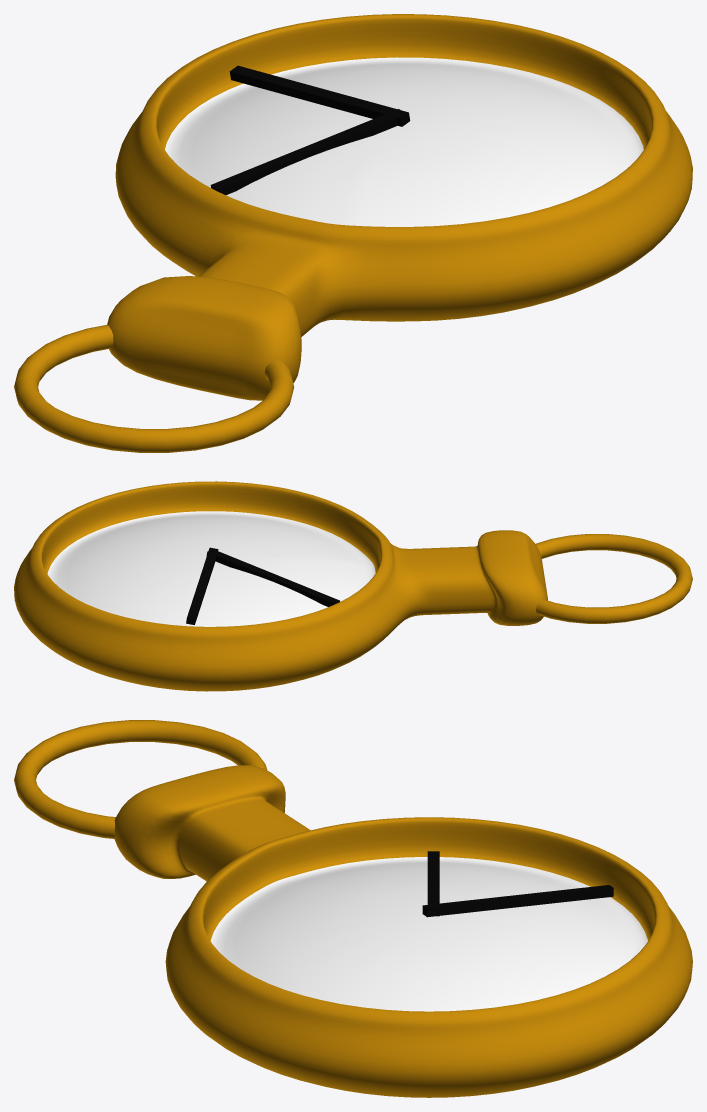
File: pocketwatch.FBX
The picture shows the model from 3 angles, top to bottom: view 1: azimuth 30°, elevation 25°; view 2: azimuth 150°, elevation 25°; view 3: azimuth 270°, elevation 25°; orthographic projection. The views are drawn at different scales.
Parts seen in each view (by area): view 1: Sphere001, Torus001, Box002, Box001; view 2: Sphere001, Torus001, Box001, Box002; view 3: Sphere001, Torus001, Box002, Box001.
Part boxes in pixels (bbox=[...]): Sphere001: bbox=[107, 14, 692, 400]; Torus001: bbox=[14, 325, 294, 452]; Box002: bbox=[229, 65, 410, 126]; Box001: bbox=[210, 109, 399, 194]; Sphere001: bbox=[14, 481, 547, 691]; Torus001: bbox=[536, 534, 692, 623]; Box001: bbox=[206, 551, 339, 606]; Box002: bbox=[186, 547, 218, 624]; Sphere001: bbox=[114, 765, 692, 1097]; Torus001: bbox=[14, 720, 267, 838]; Box002: bbox=[422, 885, 613, 917]; Box001: bbox=[427, 851, 439, 916].
Size of the model in its own units: 286 by 51.33 by 237.
